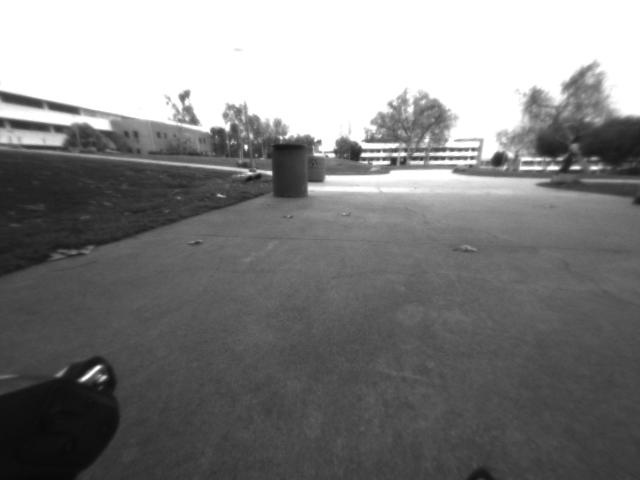trashcan: (274, 143, 308, 200), (306, 152, 326, 181)
